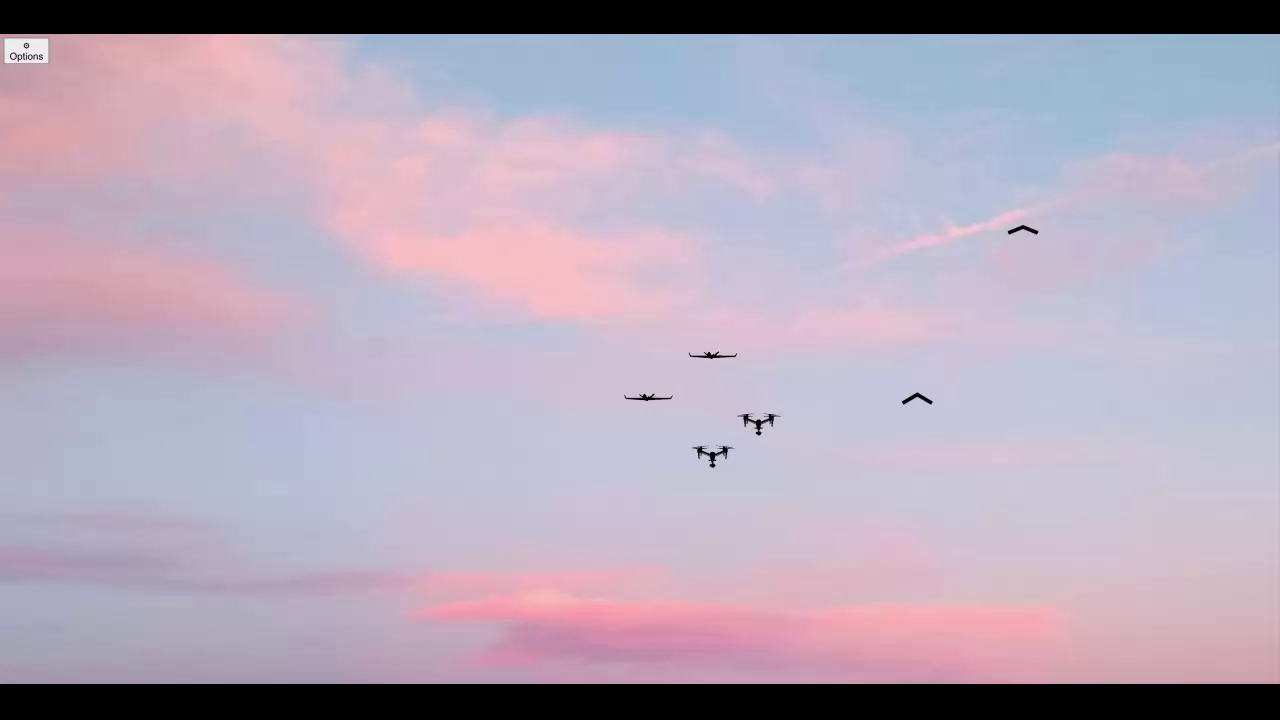Bird: (887, 370, 952, 407), (997, 202, 1050, 241)
Drone: (609, 376, 687, 412), (679, 337, 751, 370)
Quadcopter: (724, 397, 789, 438), (685, 435, 747, 474)
